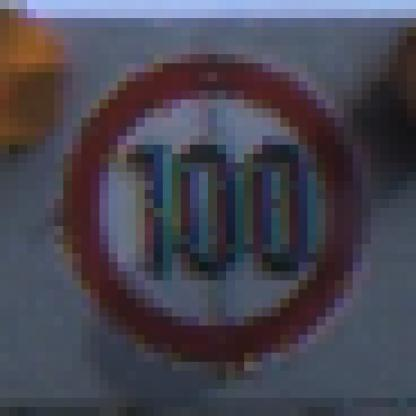Speed Limit 100: (69, 61, 362, 357)
